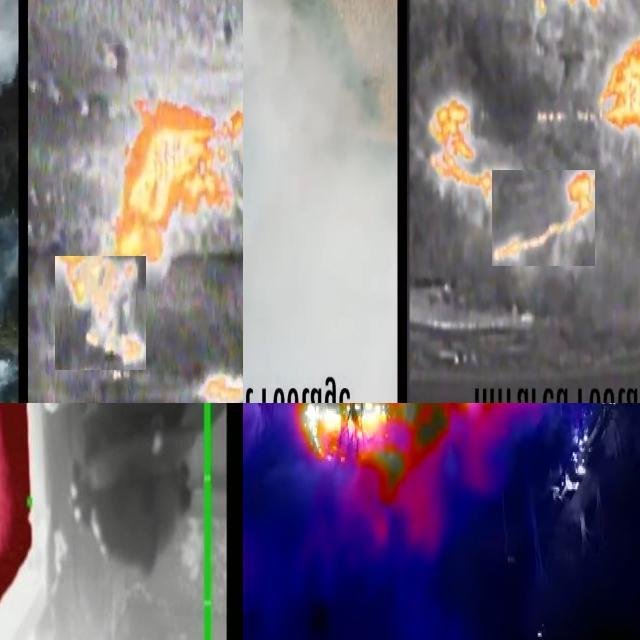fire: (263, 404, 583, 487), (111, 92, 238, 270), (56, 257, 147, 371), (493, 171, 596, 267), (429, 94, 496, 197), (598, 23, 640, 160), (201, 371, 244, 404)
